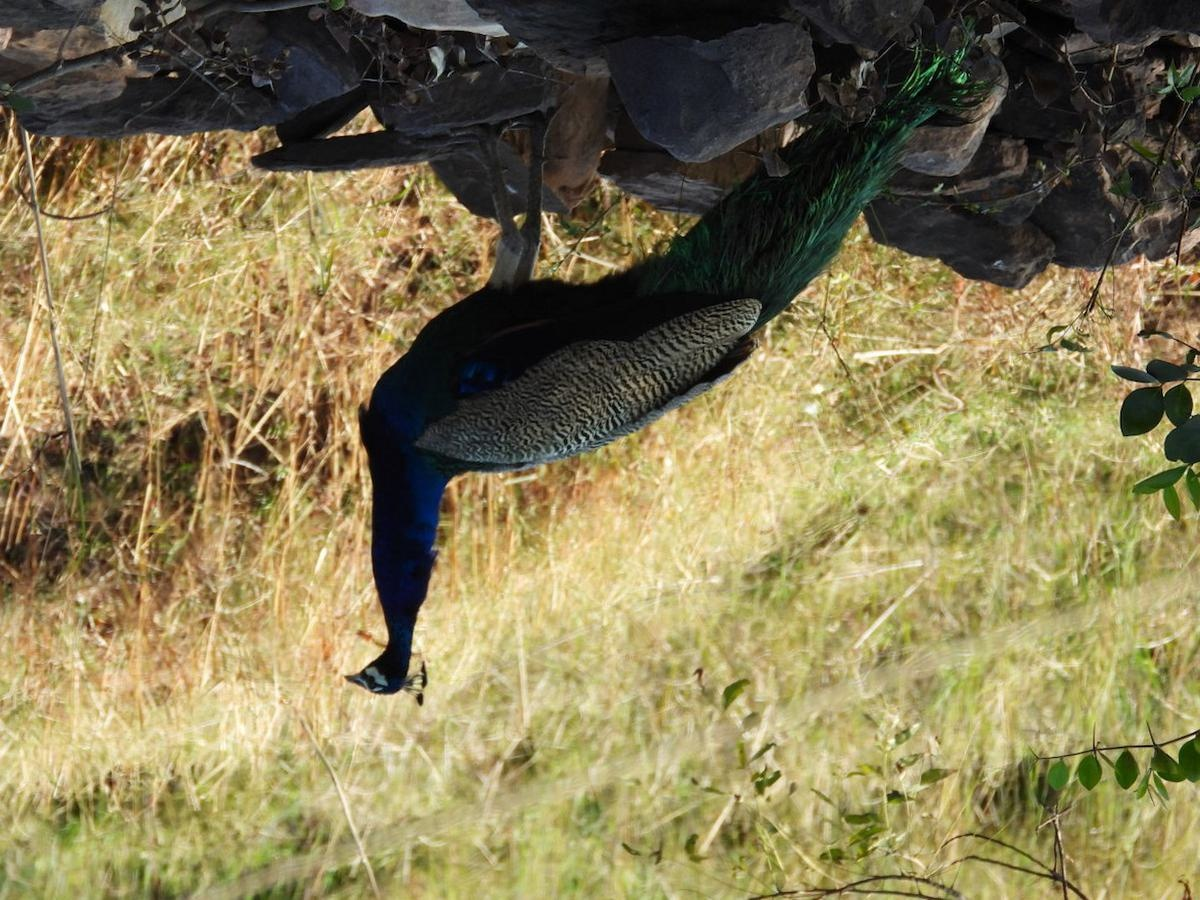peacock: (325, 136, 911, 711)
